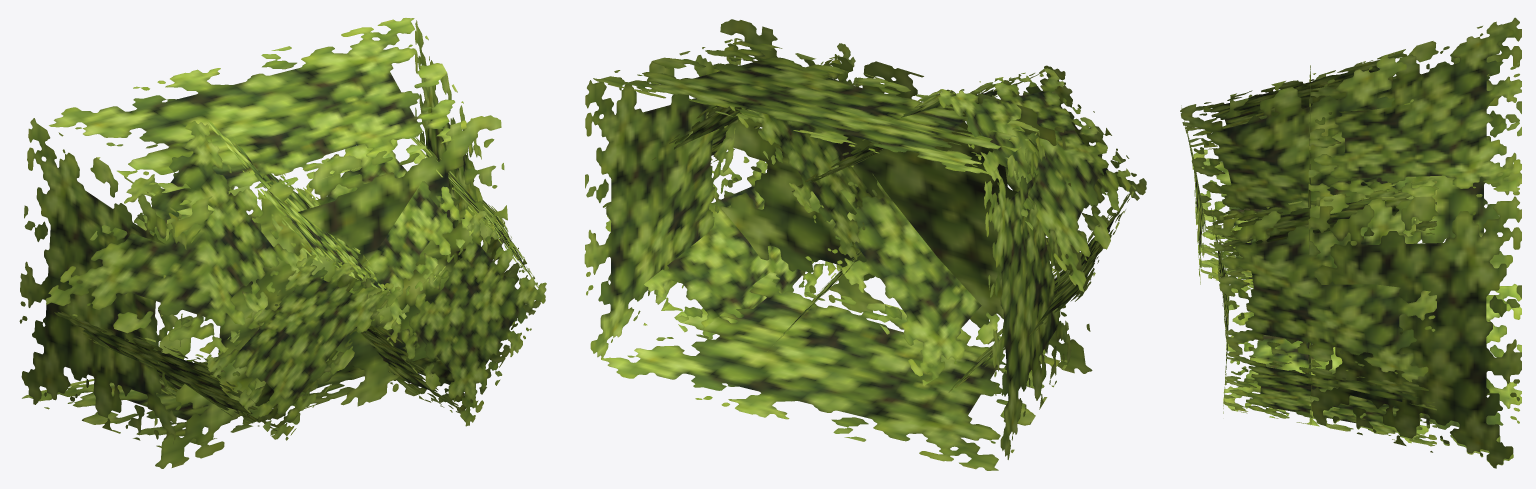
The model's file is keep-wide-green.obj.
3 views of the same model, side by side, from view 1: azimuth 30°, elevation 25°; view 2: azimuth 150°, elevation 25°; view 3: azimuth 270°, elevation 25° (orthographic). The views are drawn at different scales.
Size of the model in its own units: 1.06 by 0.6915 by 0.6799.
1 material, 1 textured.
